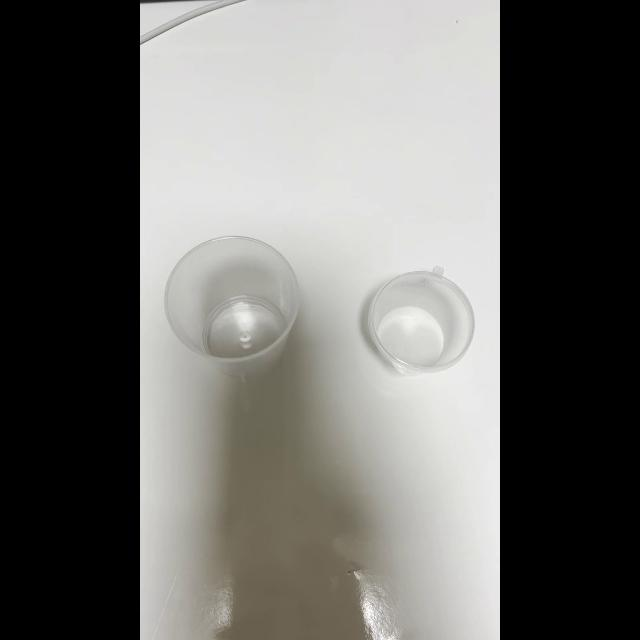clean: (160, 234, 308, 384), (361, 264, 477, 378)
